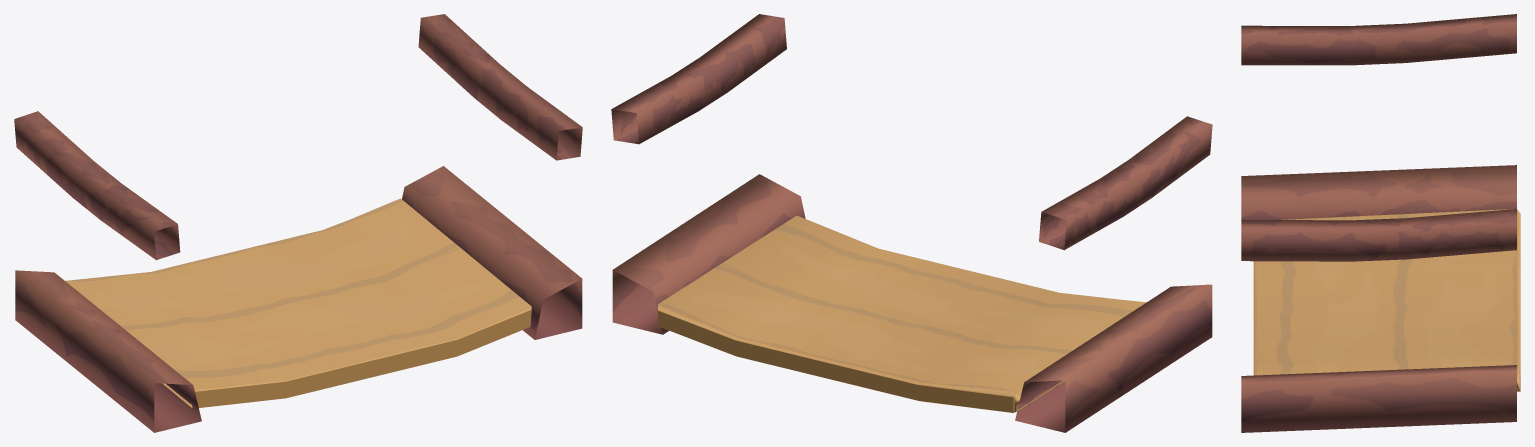
The model's file is BridgeConnectPiece.fbx.
The picture shows the model from 3 angles, left to right: view 1: azimuth 30°, elevation 25°; view 2: azimuth 150°, elevation 25°; view 3: azimuth 270°, elevation 25°; orthographic projection. The views are drawn at different scales.
Visible parts, largest first — view 1: polySurface13; view 2: polySurface13; view 3: polySurface13.
Part boxes in pixels (x1,y1,x2,y2): polySurface13: [14, 14, 582, 432]; polySurface13: [611, 14, 1212, 432]; polySurface13: [1241, 14, 1520, 432].
Size of the model in its own units: 9.04 by 4.4 by 5.12.
Materials: 3 (3 with a texture image).
